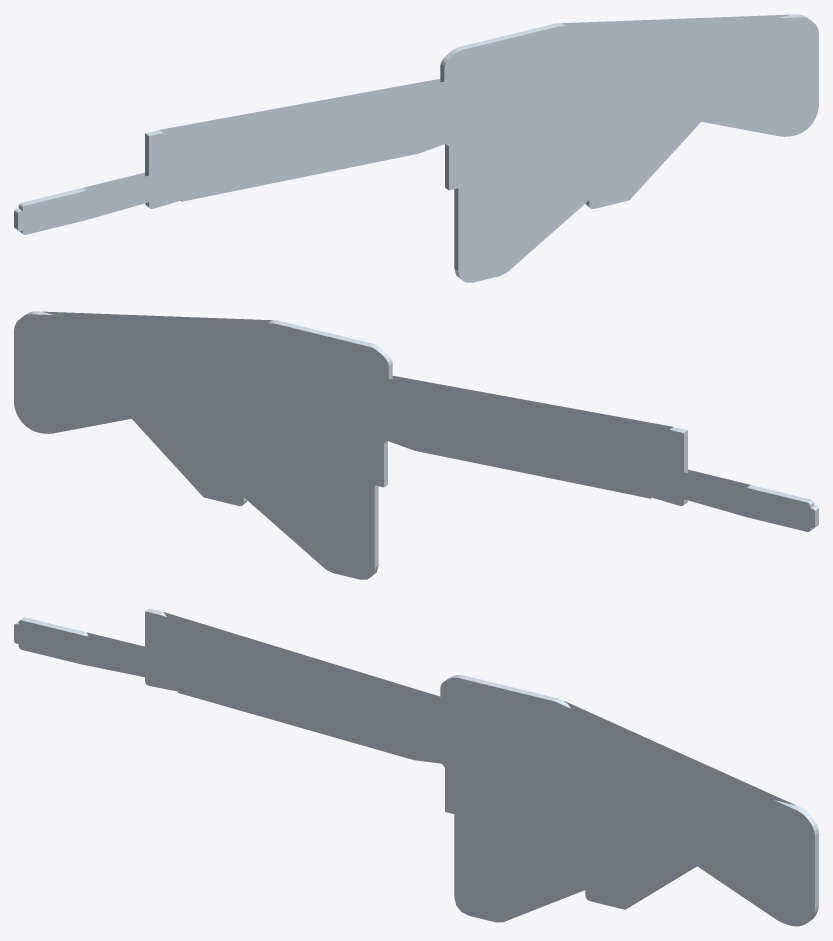
The model's file is Gun_3D_Icon_01.fbx.
3 renders of one model, top to bottom at view 1: azimuth 30°, elevation 25°; view 2: azimuth 150°, elevation 25°; view 3: azimuth 330°, elevation 25°, orthographic.
Parts seen in each view (by area): view 1: Gun_3D_Icon_01; view 2: Gun_3D_Icon_01; view 3: Gun_3D_Icon_01.
Part boxes in pixels (<box>): Gun_3D_Icon_01: <box>14,14,818,282</box>; Gun_3D_Icon_01: <box>14,311,818,579</box>; Gun_3D_Icon_01: <box>14,608,818,926</box>.
Size of the model in its own units: 231 by 64.8 by 2.
